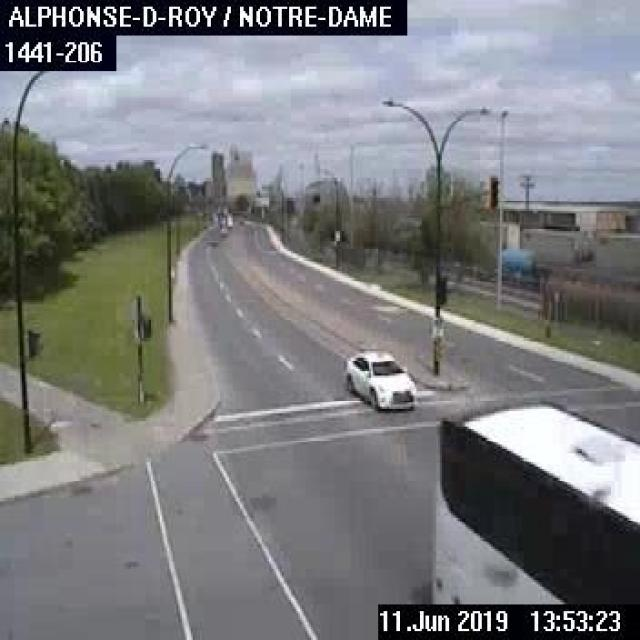bus: (429, 400, 638, 600)
vehicle: (342, 347, 414, 409)
